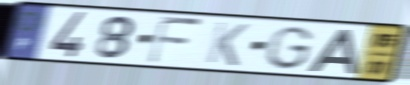4: (47, 10, 86, 60)
8: (94, 14, 136, 61)
A: (306, 28, 360, 75)
F: (145, 14, 205, 66)
G: (262, 24, 316, 72)
K: (203, 20, 251, 68)
